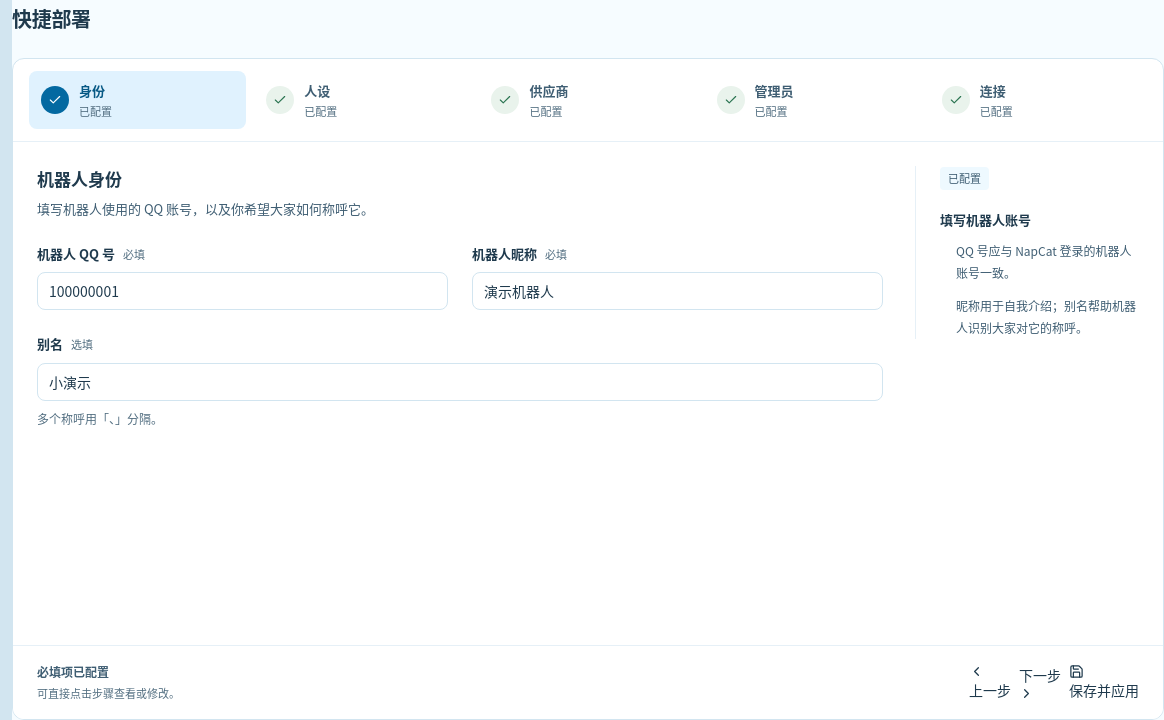
Test: Deploy 分步配置 › 回复意愿校验留在对应字段，不重复发送全局通知
Expected: the field showing "演示机器人" is shown, [472, 272, 883, 310]
Click the tab "管理员 已配置" at (813, 100), box [705, 71, 922, 129]
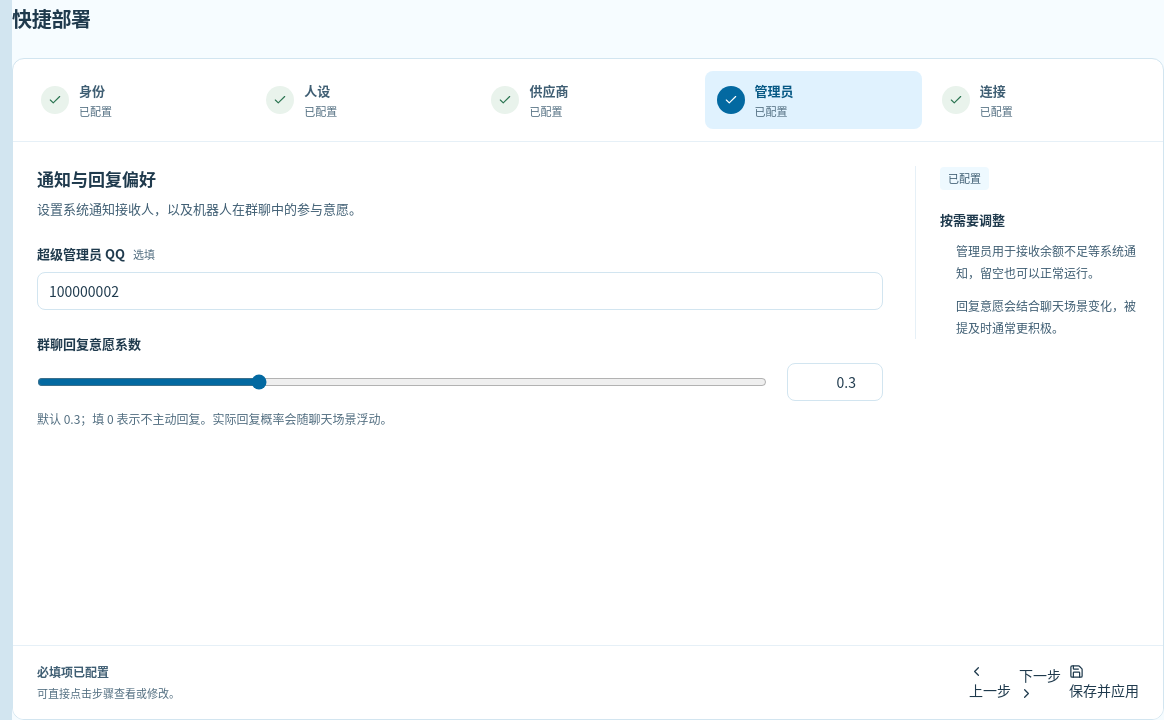
Replace the text in the number field labelled "群聊回复意愿系数" with "2" at (835, 382), box [787, 363, 883, 401]
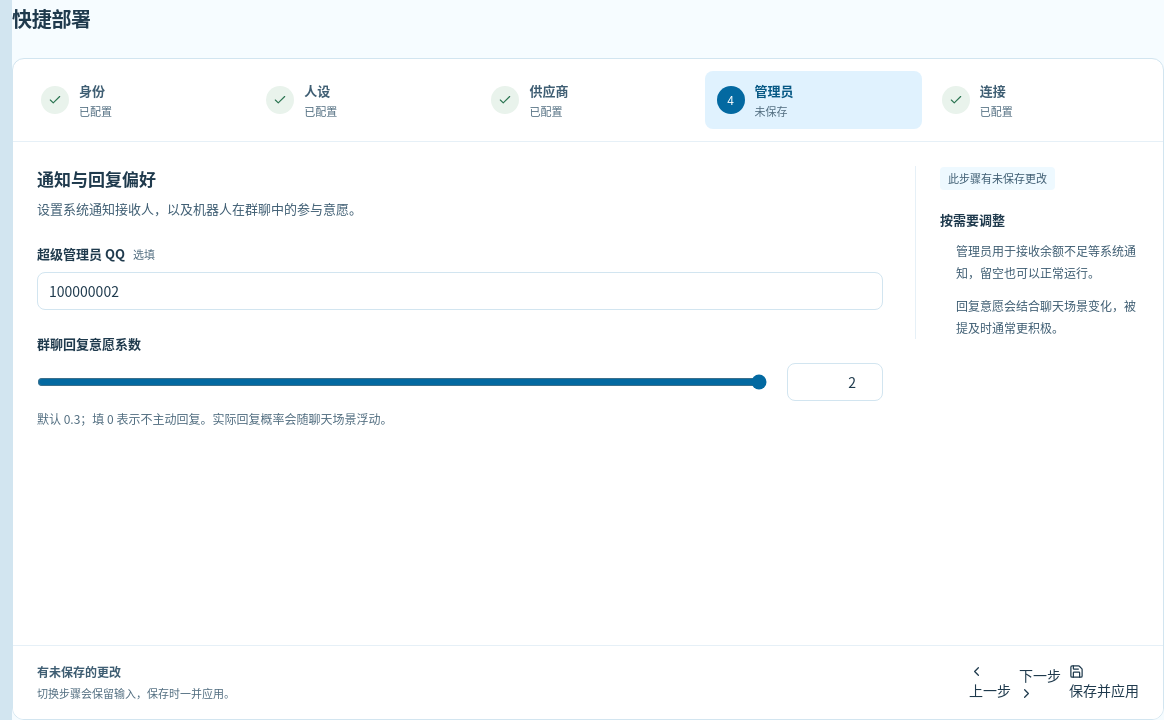
Click the button "保存并应用" at (1104, 683), box [1069, 664, 1139, 701]
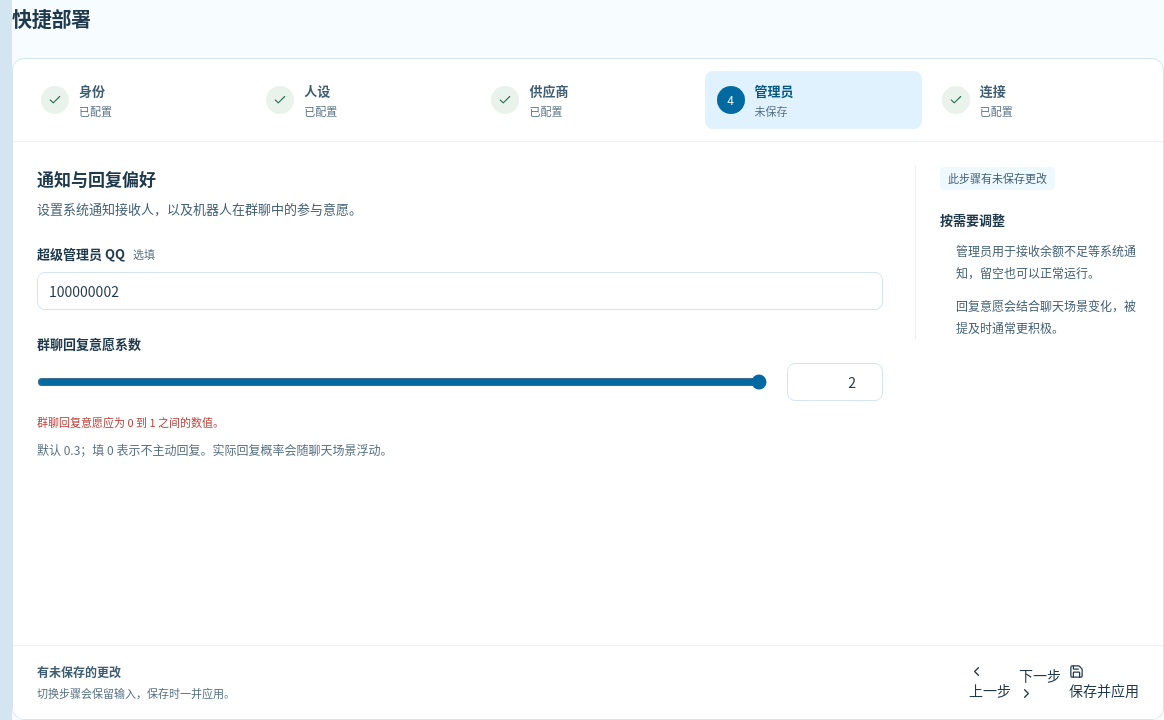
Result: the message reads "群聊回复意愿应为 0 到 1 之间的数值。" at [37, 414, 224, 430]
Replace the text in the number field labelled "群聊回复意愿系数" with "0.5" at (835, 382), box [787, 363, 883, 401]
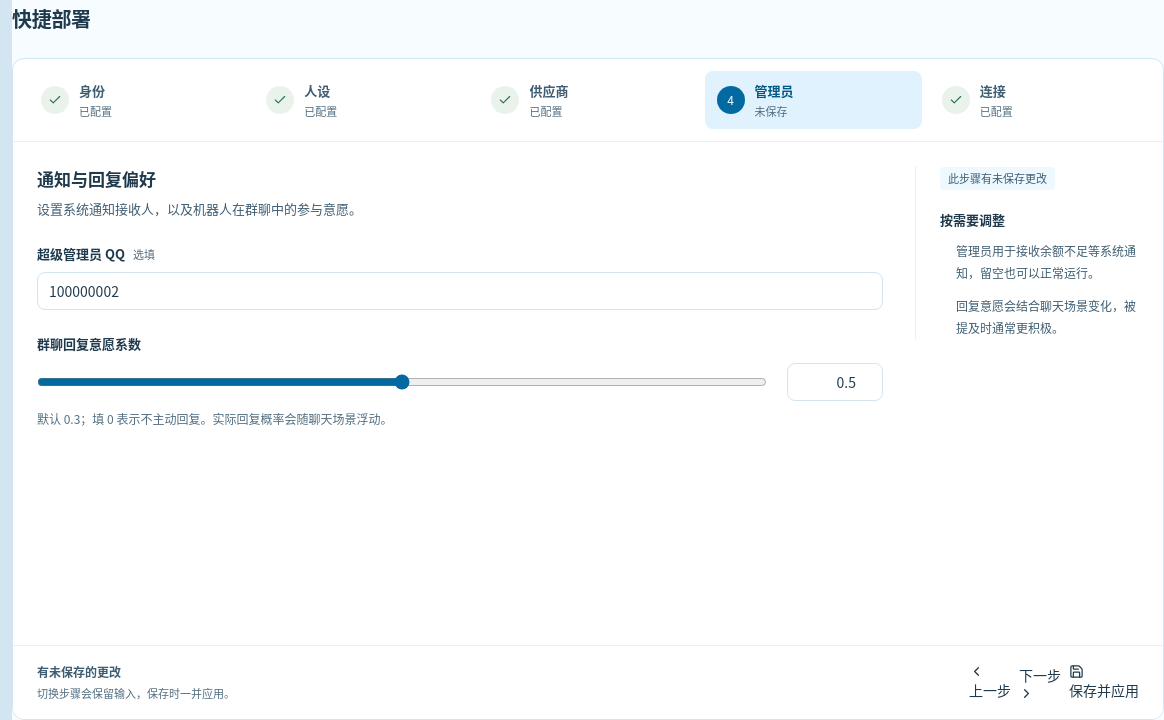
Result: the message "群聊回复意愿应为 0 到 1 之间的数值。" is gone
